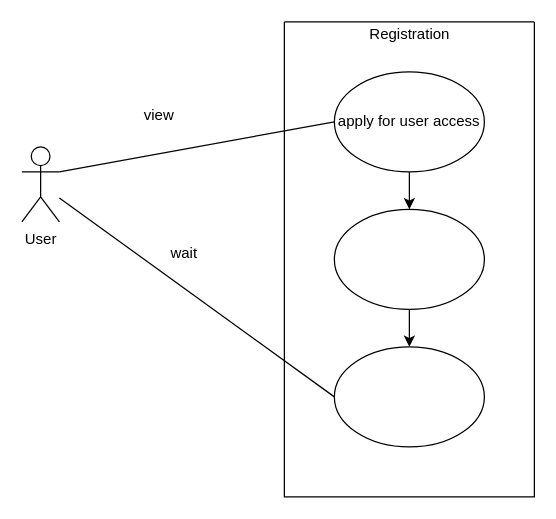
This 556x519 diagram has some shape labels left out. Here are the shapes that lost their labels. From the top down, the centre of each, then its label:
At point (408, 258): "validate user details".
At point (408, 396): "forward the request to admin".
